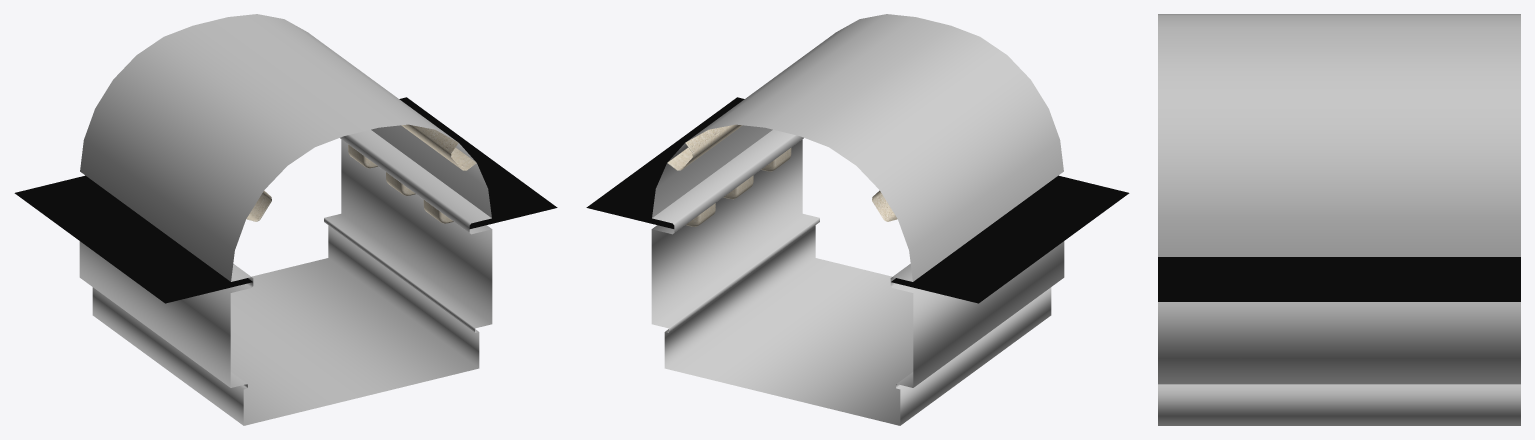
The model's file is dungeon_Modelling Tile_02.fbx.
The picture shows the model from 3 angles, left to right: view 1: azimuth 30°, elevation 25°; view 2: azimuth 150°, elevation 25°; view 3: azimuth 270°, elevation 25°; orthographic projection. The views are drawn at different scales.
Visible parts, largest first — view 1: dungeon_Tile_02_Right_Wall, dungeon_Tile_02_Left_Roof, dungeon_Tile_02_Left_Wall, dungeon_Tile_02_Right_Roof; view 2: dungeon_Tile_02_Right_Wall, dungeon_Tile_02_Left_Roof, dungeon_Tile_02_Left_Wall, dungeon_Tile_02_Right_Roof; view 3: dungeon_Tile_02_Right_Roof, dungeon_Tile_02_Right_Wall, dungeon_Tile_02_Left_Roof.
Part boxes in pixels (x1=…): dungeon_Tile_02_Right_Wall: x1=230, y1=97, x2=557, y2=397; dungeon_Tile_02_Left_Roof: x1=80, y1=21, x2=360, y2=281; dungeon_Tile_02_Left_Wall: x1=14, y1=175, x2=360, y2=425; dungeon_Tile_02_Right_Roof: x1=211, y1=14, x2=491, y2=228; dungeon_Tile_02_Right_Wall: x1=586, y1=97, x2=913, y2=397; dungeon_Tile_02_Left_Roof: x1=783, y1=21, x2=1063, y2=281; dungeon_Tile_02_Left_Wall: x1=783, y1=175, x2=1129, y2=425; dungeon_Tile_02_Right_Roof: x1=652, y1=14, x2=932, y2=228; dungeon_Tile_02_Right_Roof: x1=1158, y1=38, x2=1520, y2=256; dungeon_Tile_02_Right_Wall: x1=1158, y1=257, x2=1520, y2=425; dungeon_Tile_02_Left_Roof: x1=1158, y1=14, x2=1520, y2=38.
Bounding box in the file's own units: 90 × 58.13 × 60.
